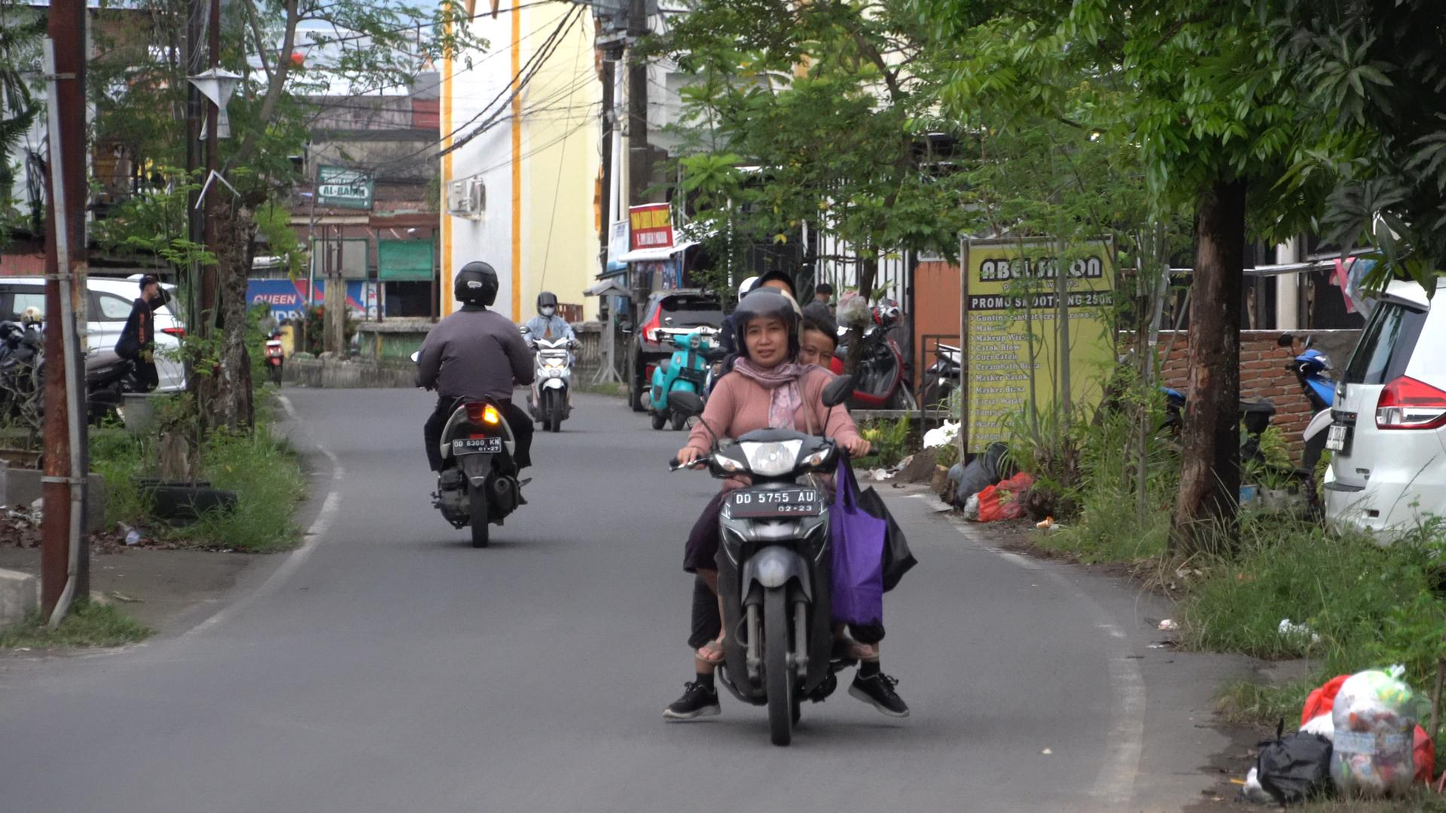number-plate: (725, 489, 823, 519)
